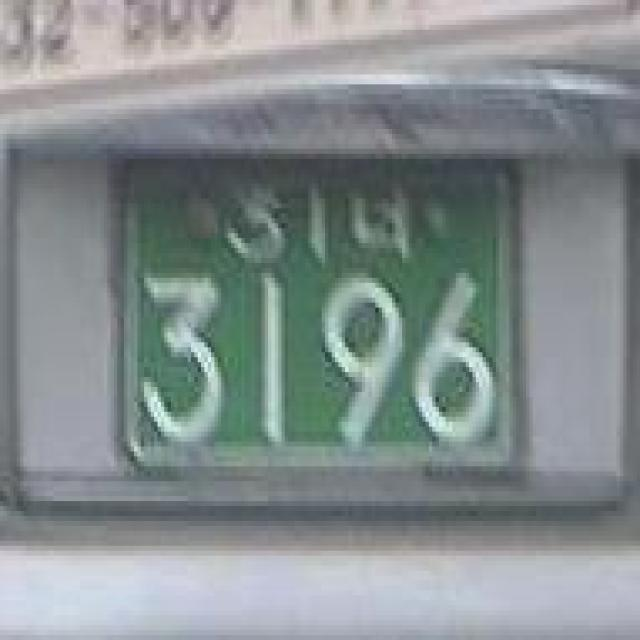illegal_plate: (95, 140, 540, 509)
